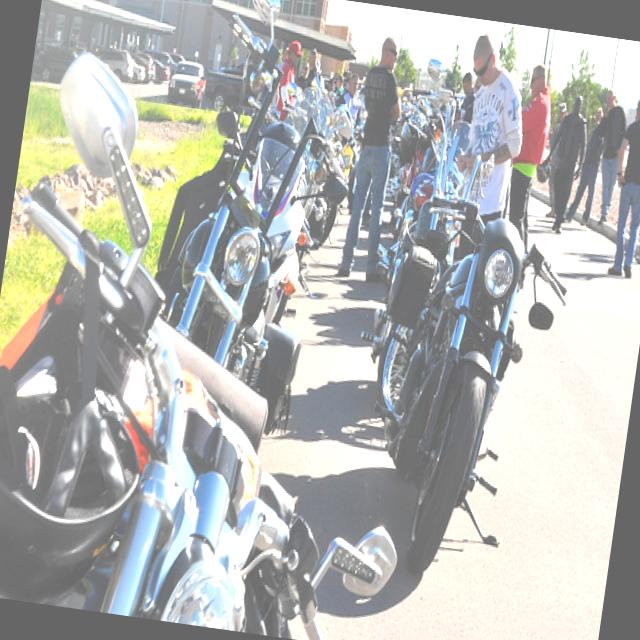Vehicle: (0, 47, 465, 640), (134, 0, 372, 440), (382, 213, 566, 581), (357, 114, 498, 418), (206, 107, 300, 220), (382, 96, 450, 234), (202, 46, 258, 118), (30, 40, 80, 86), (166, 56, 206, 110), (92, 46, 136, 83), (139, 49, 179, 79), (128, 54, 156, 84), (149, 59, 172, 88), (132, 63, 146, 82), (168, 52, 186, 64)
